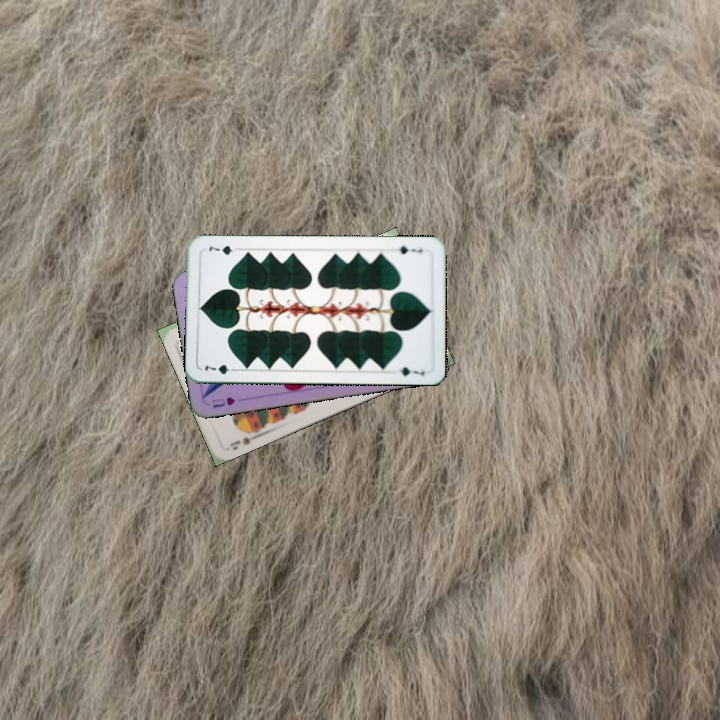G7: (200, 360, 240, 377), (389, 242, 424, 256)
HU: (208, 393, 238, 411)
S9: (225, 425, 263, 453)
